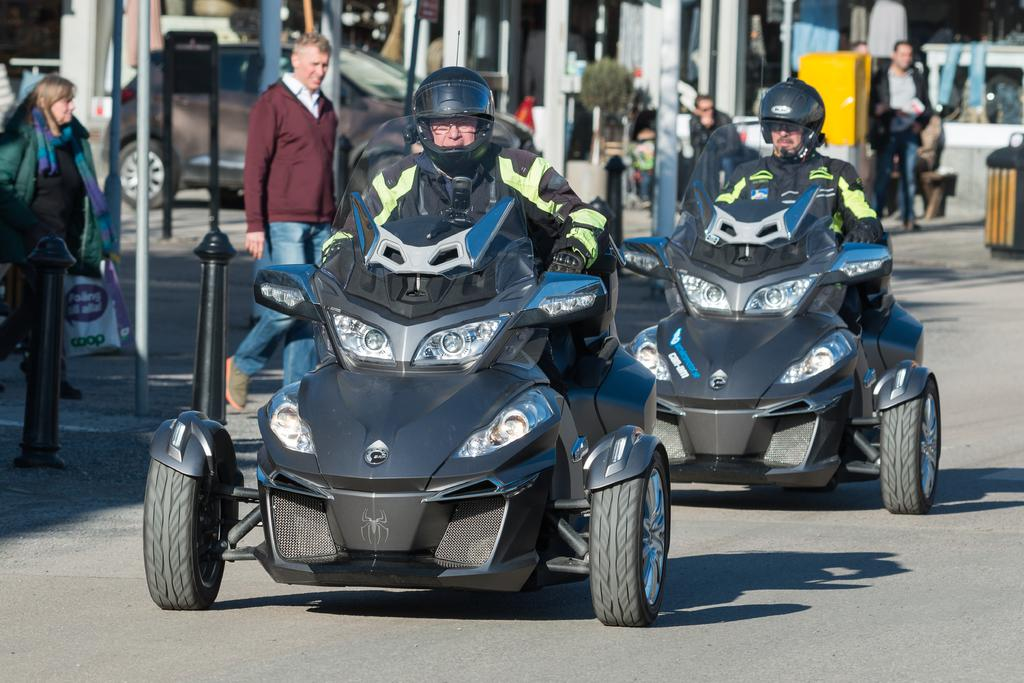helmet: (412, 66, 496, 172), (757, 77, 826, 154)
nohelmet: (290, 32, 333, 93), (34, 73, 77, 127), (891, 39, 914, 73), (693, 95, 715, 123)
